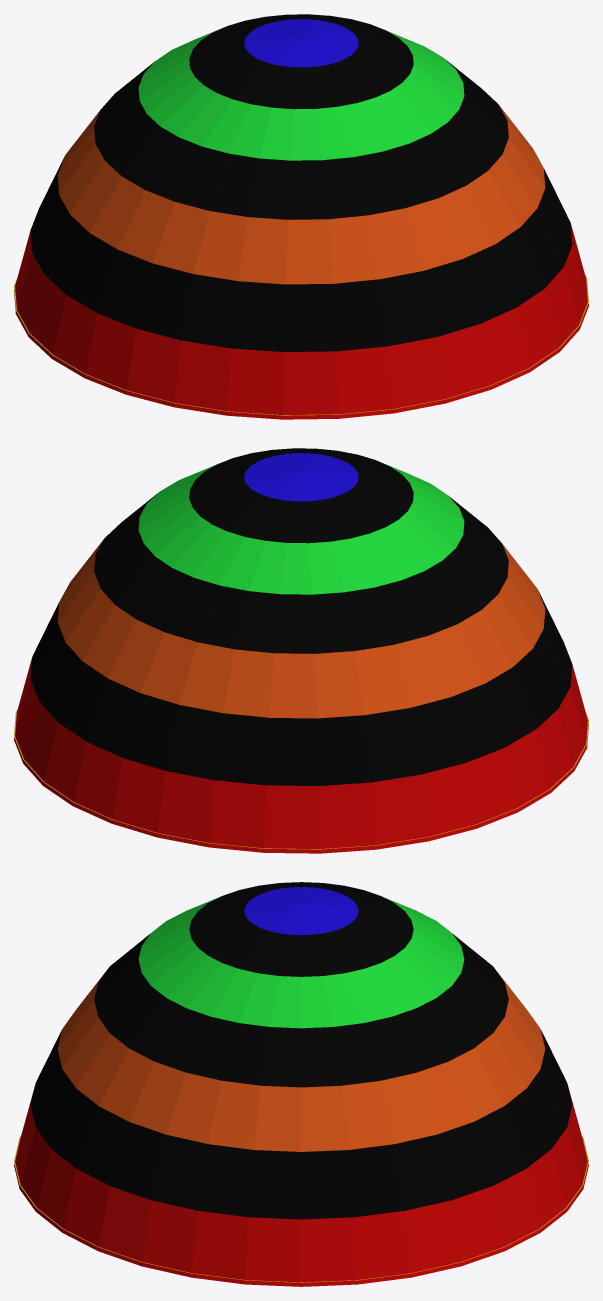
3 renders of one model, top to bottom at view 1: azimuth 30°, elevation 25°; view 2: azimuth 150°, elevation 25°; view 3: azimuth 270°, elevation 25°, orthographic.
Parts seen in each view (by area): view 1: Sphere, Cylinder; view 2: Sphere, Cylinder; view 3: Sphere, Cylinder.
Part boxes in pixels (x1,y1,x2,y2): Sphere: [14, 14, 588, 419]; Cylinder: [14, 275, 588, 415]; Sphere: [14, 448, 588, 853]; Cylinder: [14, 709, 588, 849]; Sphere: [14, 882, 588, 1286]; Cylinder: [14, 1136, 588, 1282].
Size of the model in its own units: 16 by 16 by 8.
